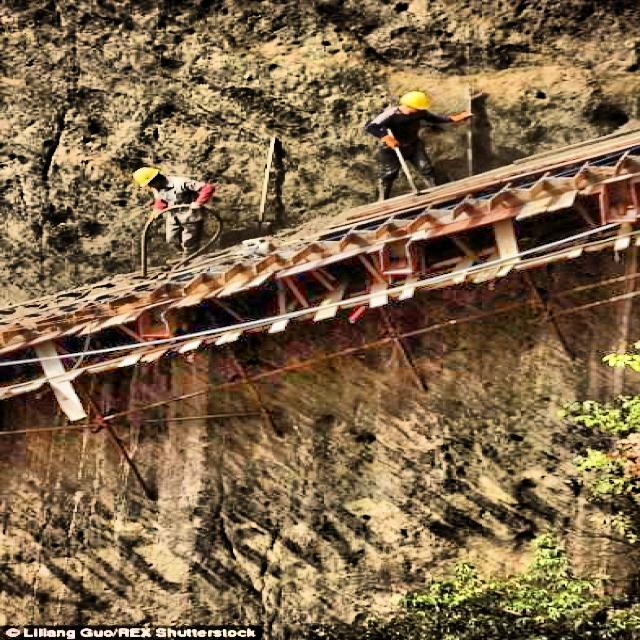helmet: (389, 86, 433, 118), (127, 164, 171, 191)
